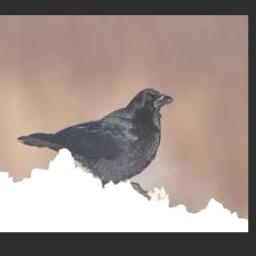Crow: (17, 88, 175, 203)
